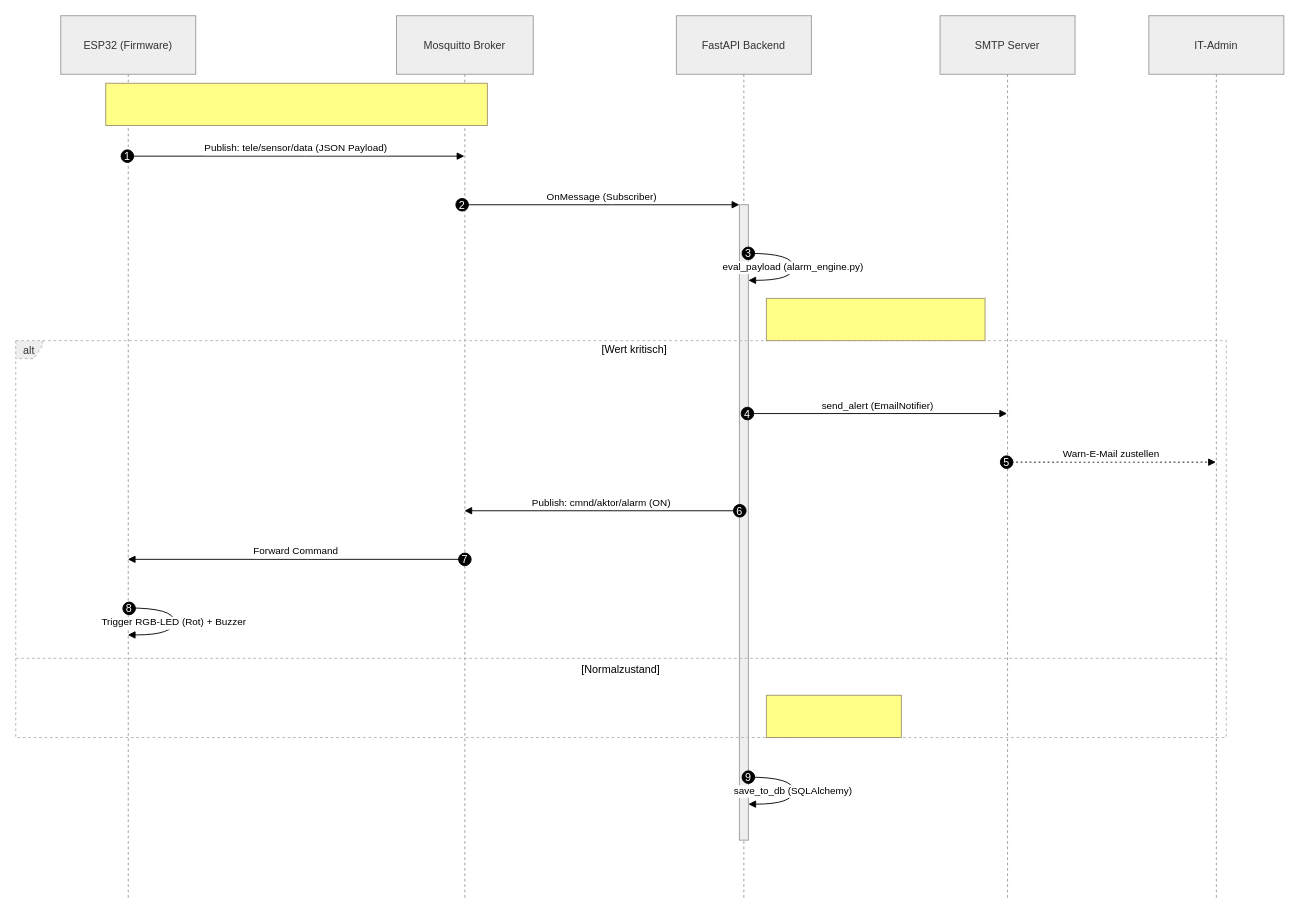
Some shapes in this 1300 by 914 pixel diagram are drawn without their labels. The shapes that lost their labels are listed below. From the top down, each one's box as (x1, y1, x2, y2) in pixels, then its label:
(105, 82, 487, 126): Zyklische Messdatenerfassung (Non-Blocking)
(765, 297, 985, 341): Wert > Grenzwert (z.B. Rauch)
(765, 694, 901, 738): Werte OK
